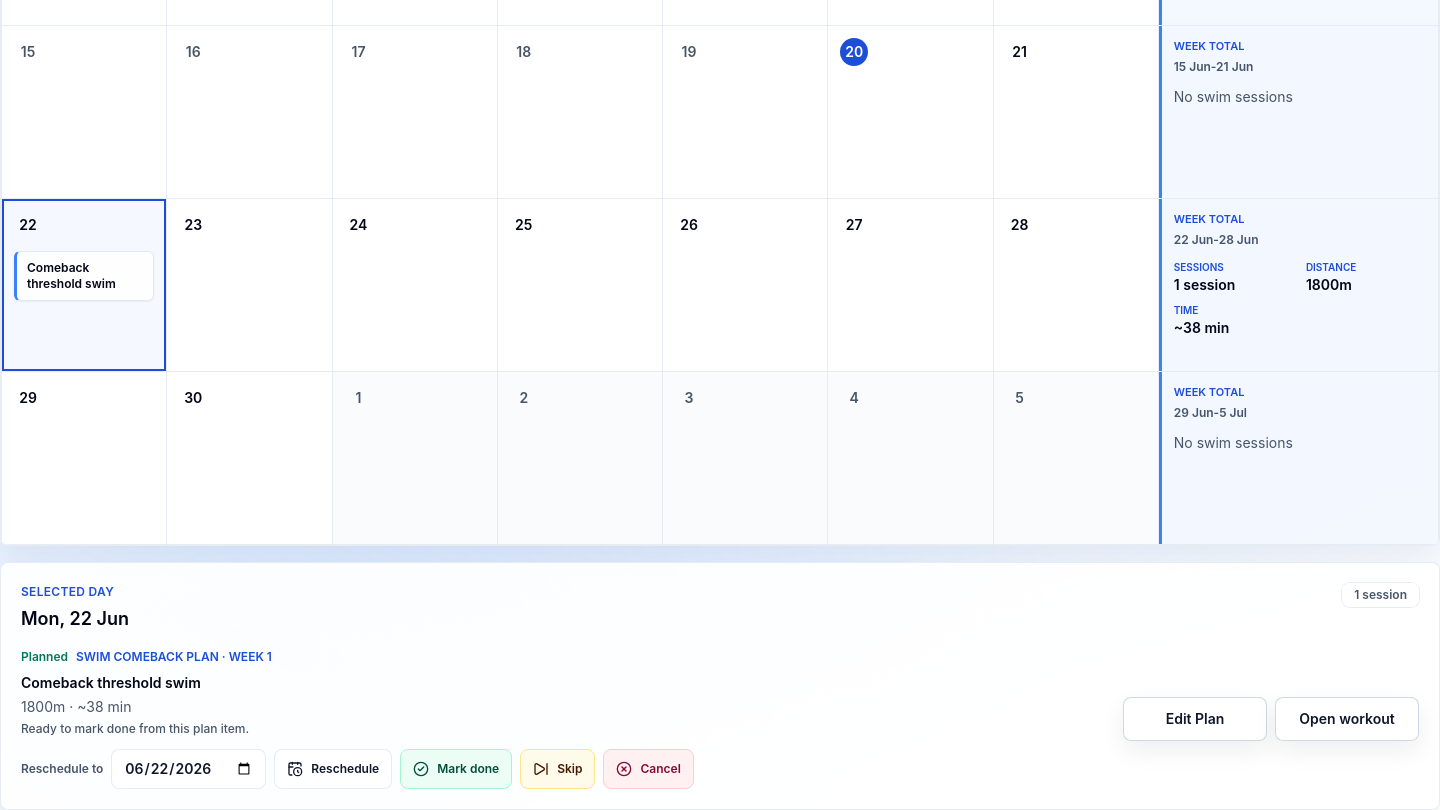
CalendarPlanWeekHub › posts manual completion with the current planned-instance timestamp
The width and height of the screenshot is (1440, 810).
(page scrolled)
Click the button "Mark done".
click(456, 769)  # box [400,749,512,789]
(page scrolled)
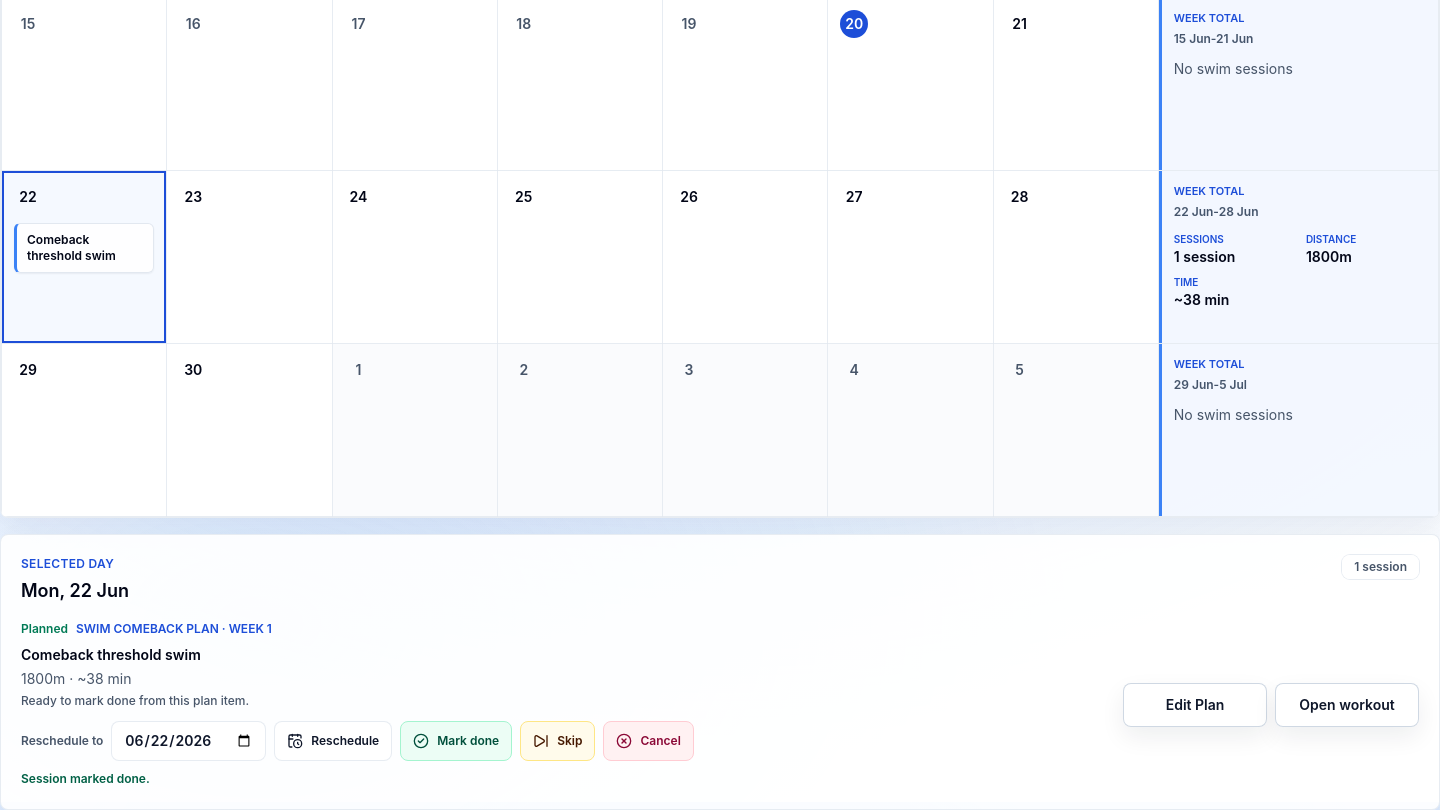
Now the text "Session marked done." is shown, box [21,771,150,786]
